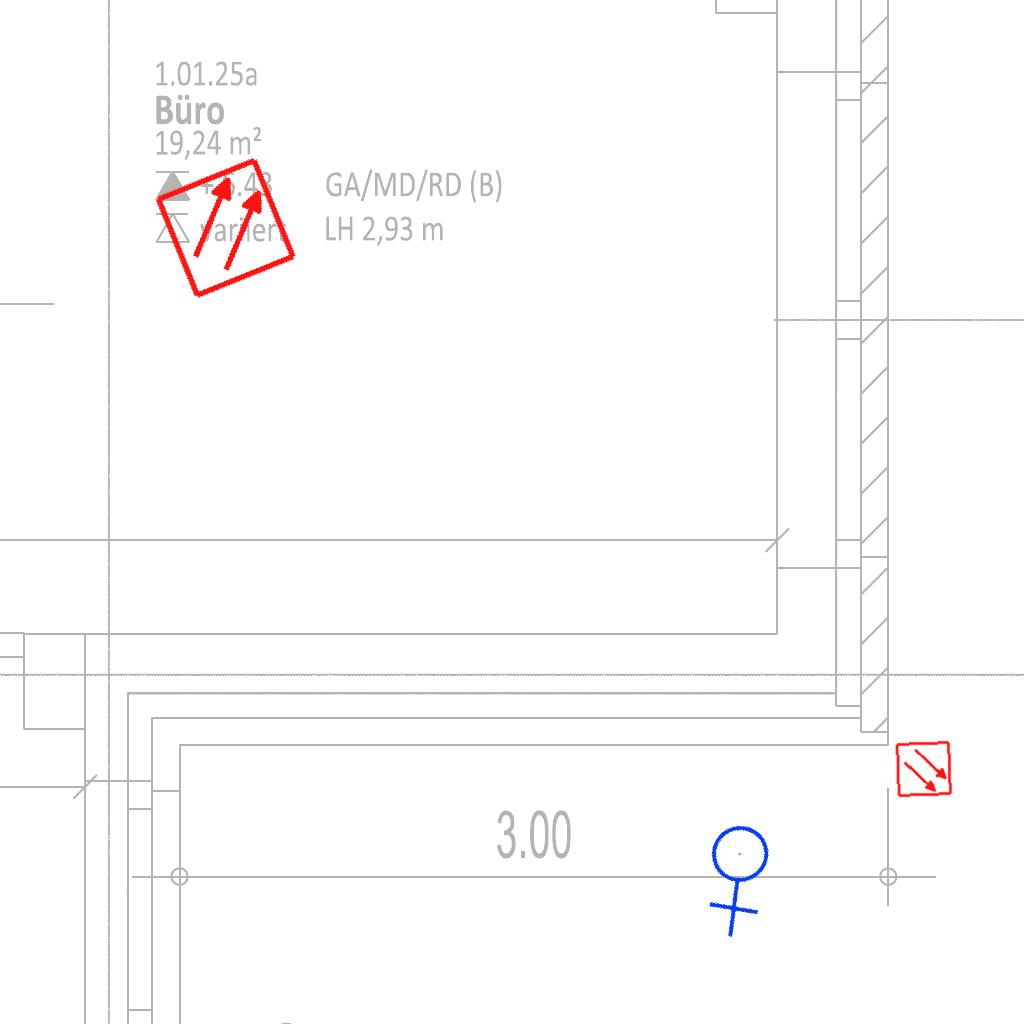Elektroanschluss_allgemein_230V_Geraeteanschlussdose_230V: (673, 807, 810, 943)
RMO_Rauchmelder_optischer: (151, 153, 300, 302), (895, 740, 953, 798)
